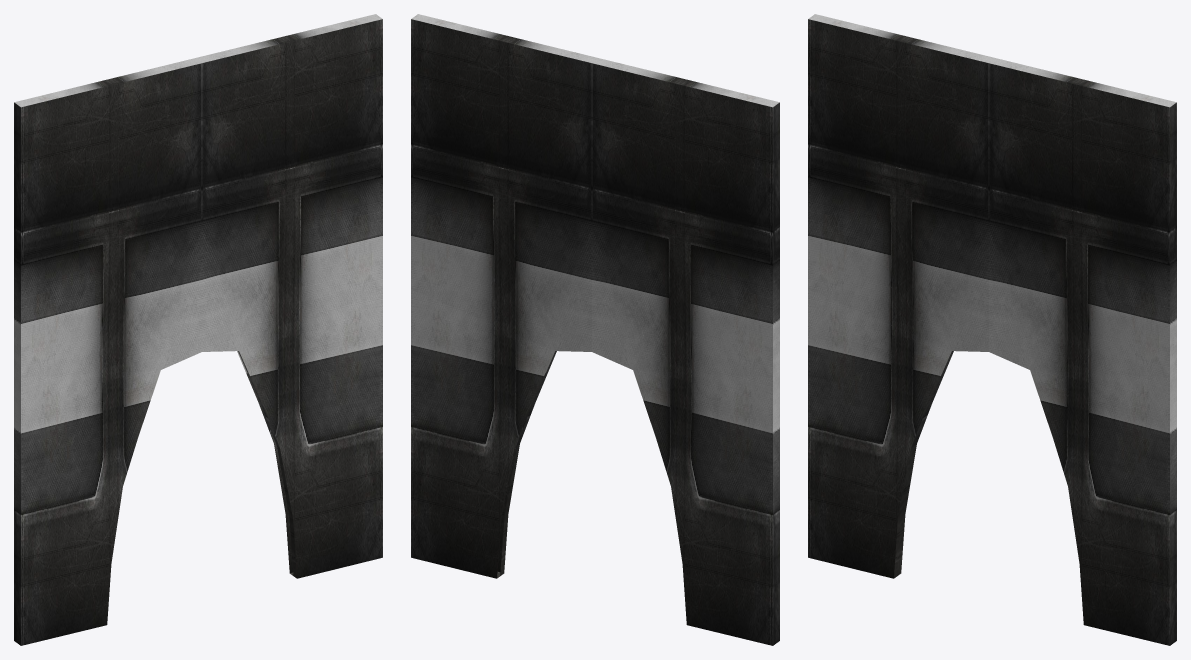
Rendered from pared puerta.fbx.
3 renders of one model, left to right at view 1: azimuth 30°, elevation 25°; view 2: azimuth 150°, elevation 25°; view 3: azimuth 330°, elevation 25°, orthographic.
Parts seen in each view (by area): view 1: Cube.009; view 2: Cube.009; view 3: Cube.009.
Boxes of the visible parts, x1,y1,x2,y2 form: Cube.009: (14,14,382,645); Cube.009: (411,14,779,645); Cube.009: (808,14,1176,645).
Size of the model in its own units: 600 by 853 by 22.1.
1 material, 1 textured.
